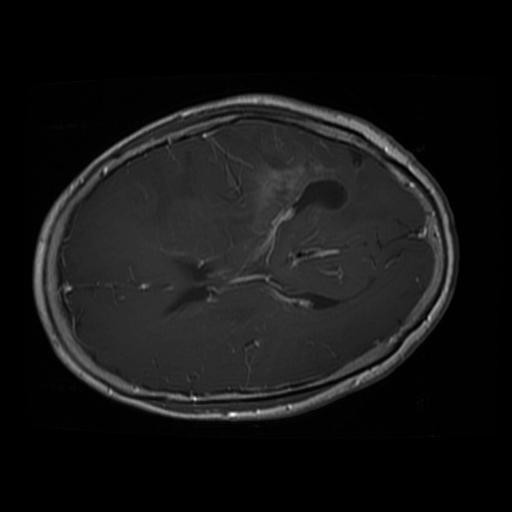glioma: (241, 130, 369, 268)
